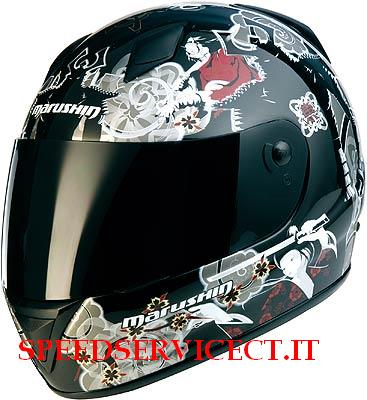helmet: (22, 26, 359, 347)
